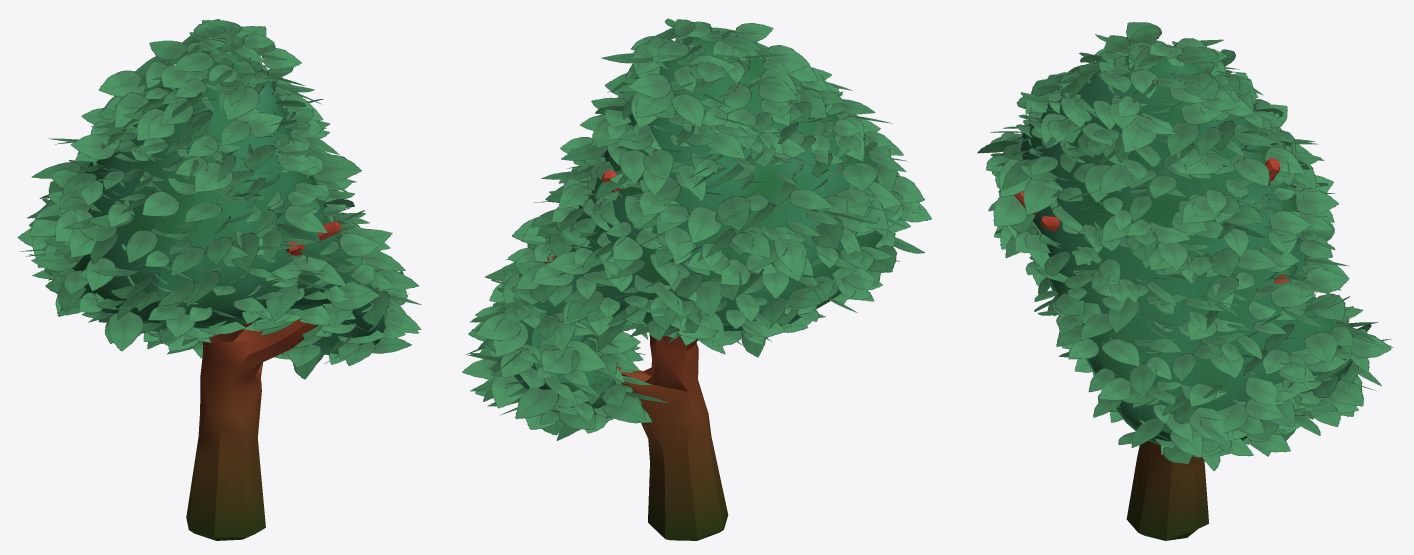
The model's file is Drzewo1.fbx.
The picture shows the model from 3 angles, left to right: view 1: azimuth 30°, elevation 25°; view 2: azimuth 150°, elevation 25°; view 3: azimuth 270°, elevation 25°; orthographic projection. The views are drawn at different scales.
Parts seen in each view (by area): view 1: Cube.014; view 2: Cube.014; view 3: Cube.014.
Boxes of the visible parts, x1,y1,x2,y2 form: Cube.014: [18, 19, 421, 540]; Cube.014: [462, 18, 931, 540]; Cube.014: [977, 22, 1393, 540].
Bounding box in the file's own units: 428 × 519 × 418.
Materials: 1 (1 with a texture image).
